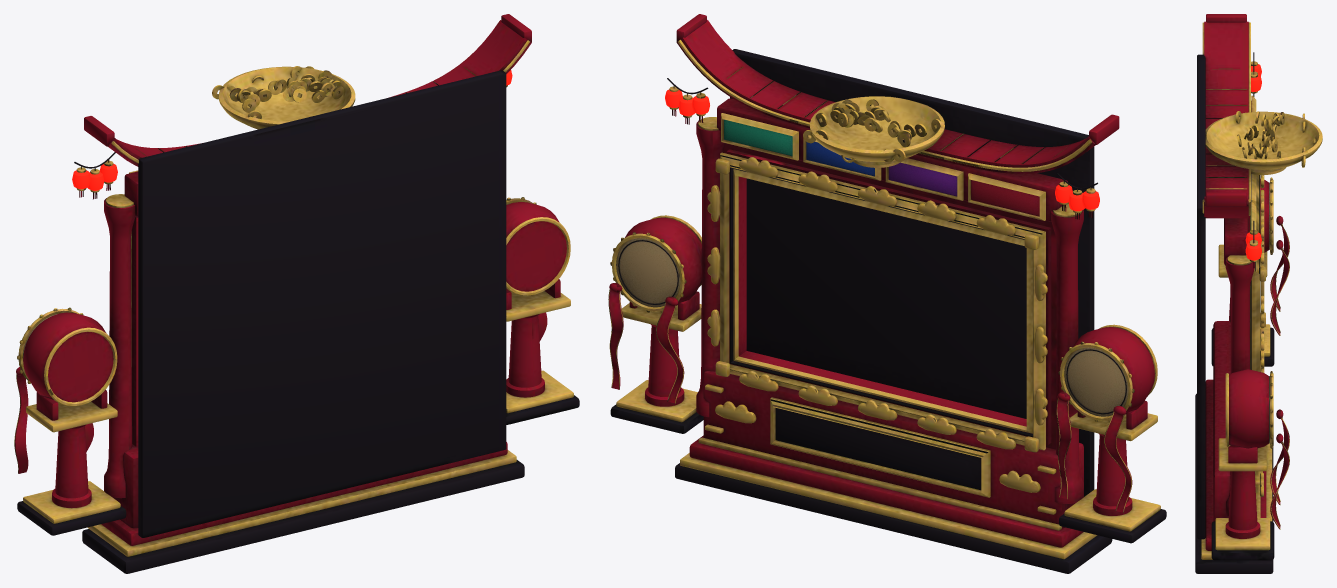
3 views of the same model, side by side, from view 1: azimuth 30°, elevation 25°; view 2: azimuth 150°, elevation 25°; view 3: azimuth 270°, elevation 25° (orthographic). The views are drawn at different scales.
Visible parts, largest first — view 1: Obsidian_bronze, Crimson_lacquer, Palace_gold, glow_red_lantern; view 2: Obsidian_bronze, Crimson_lacquer, Palace_gold, Warm_drum_parchment, Four_enamel_plaques, glow_red_lantern; view 3: Crimson_lacquer, Palace_gold, Obsidian_bronze, glow_red_lantern.
Part boxes in pixels (left/top/right/bottom): Obsidian_bronze: left=17, top=70, right=579, bottom=573; Crimson_lacquer: left=15, top=14, right=566, bottom=545; Palace_gold: left=14, top=40, right=573, bottom=556; glow_red_lantern: left=72, top=70, right=512, bottom=190; Obsidian_bronze: left=610, top=49, right=1166, bottom=573; Crimson_lacquer: left=609, top=14, right=1154, bottom=547; Palace_gold: left=608, top=39, right=1160, bottom=559; Warm_drum_parchment: left=616, top=238, right=1128, bottom=416; Four_enamel_plaques: left=724, top=119, right=1039, bottom=216; glow_red_lantern: left=665, top=89, right=1099, bottom=211; Crimson_lacquer: left=1204, top=14, right=1289, bottom=550; Palace_gold: left=1201, top=22, right=1322, bottom=559; Obsidian_bronze: left=1195, top=52, right=1274, bottom=573; glow_red_lantern: left=1245, top=64, right=1261, bottom=260.
Bounding box in the file's own units: 12.44 × 9.8 × 2.94.
Materials: 6 (5 with a texture image).
